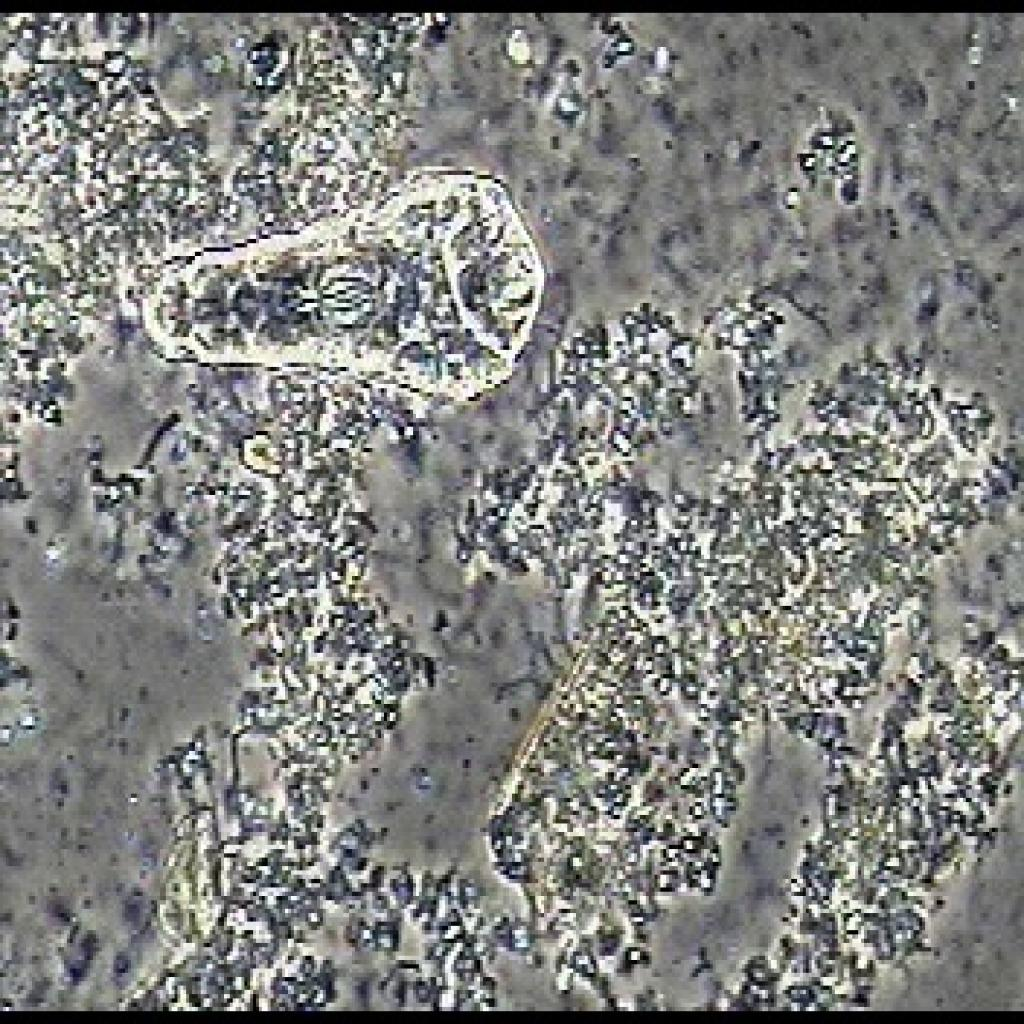Rotatoria: (131, 162, 553, 431)
